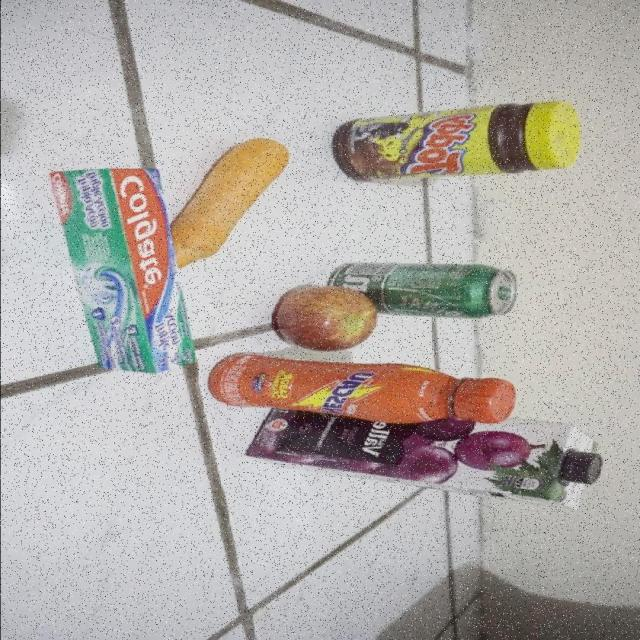Apple: (273, 286, 379, 354)
BeerCan: (324, 263, 518, 318)
Carrot: (173, 136, 292, 271)
ChocolateMilk: (208, 354, 514, 427)
ChocolatePowder: (333, 100, 579, 182)
Toothpaste: (47, 167, 198, 375)
